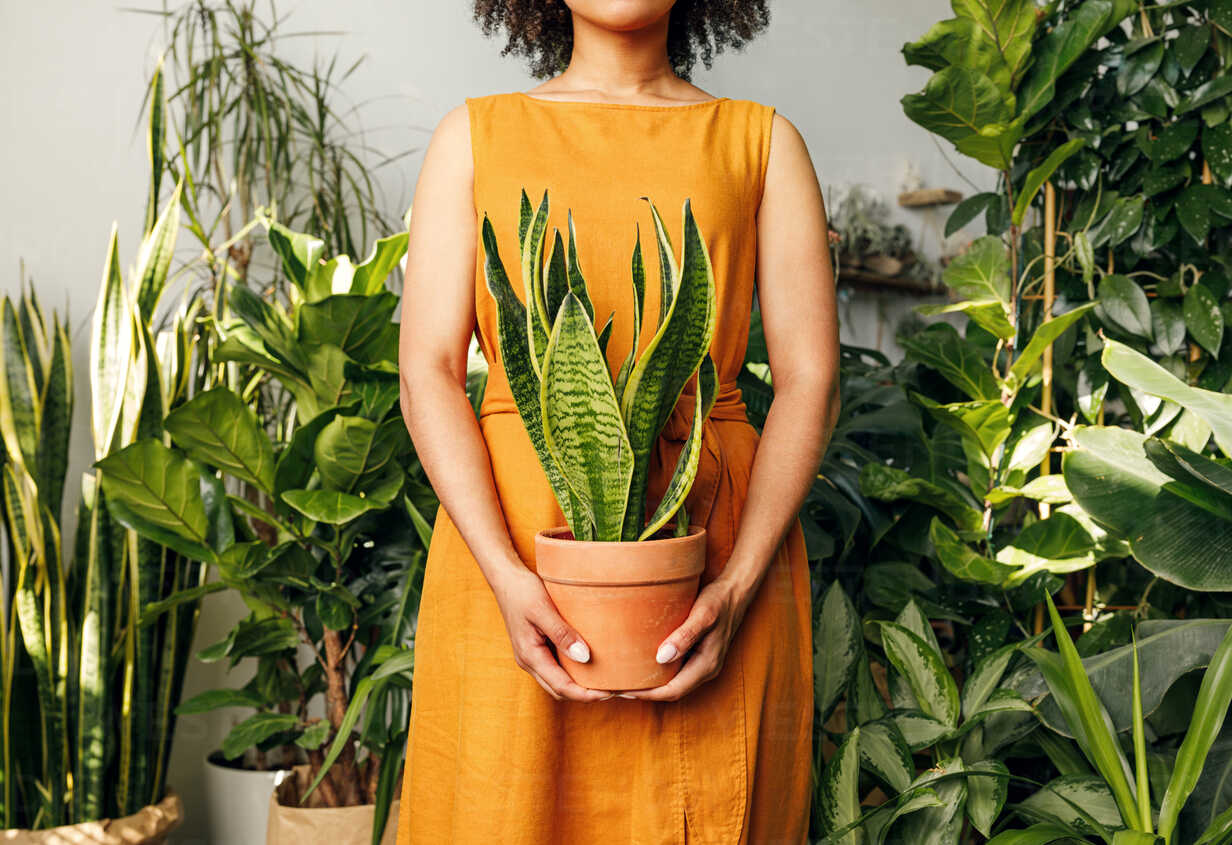tanaman: (467, 224, 744, 683)
